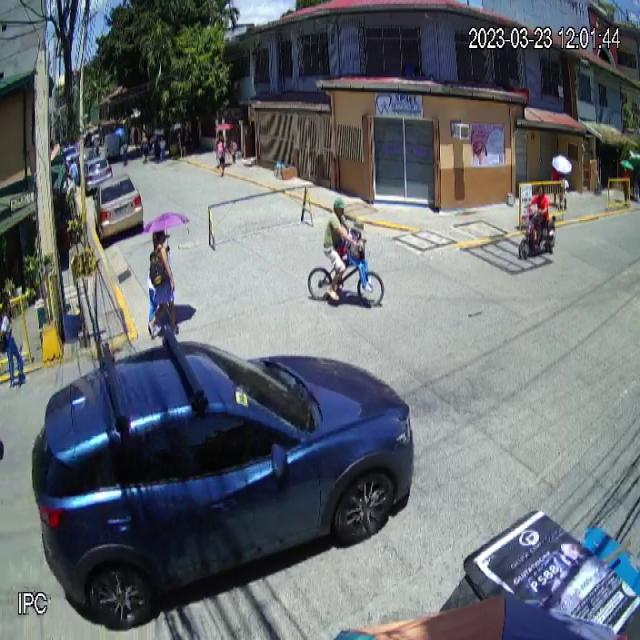Car: (32, 332, 413, 625)
